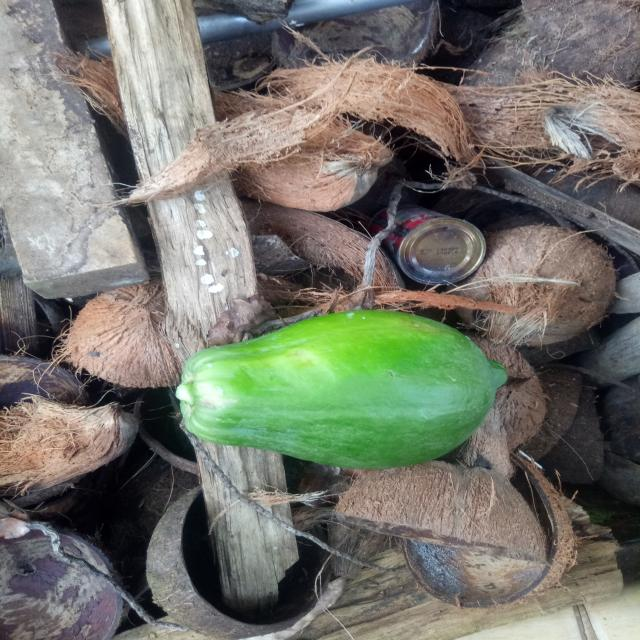Pepaya unrippen: (170, 308, 516, 472)
